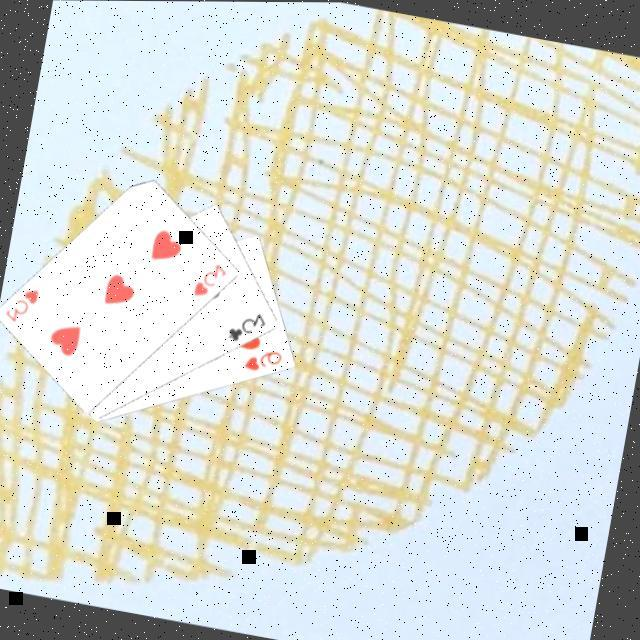3C: (225, 302, 272, 348)
3H: (1, 279, 44, 326), (190, 254, 232, 302)
9H: (241, 339, 288, 376)
